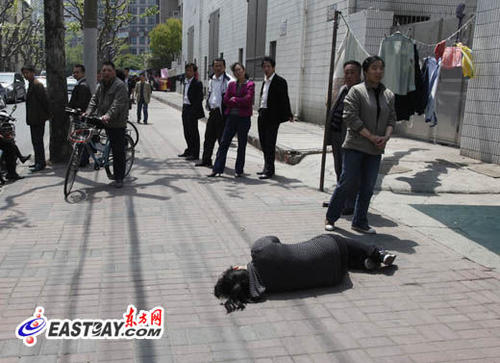10+: (17, 51, 405, 314)
down: (211, 231, 404, 315)
